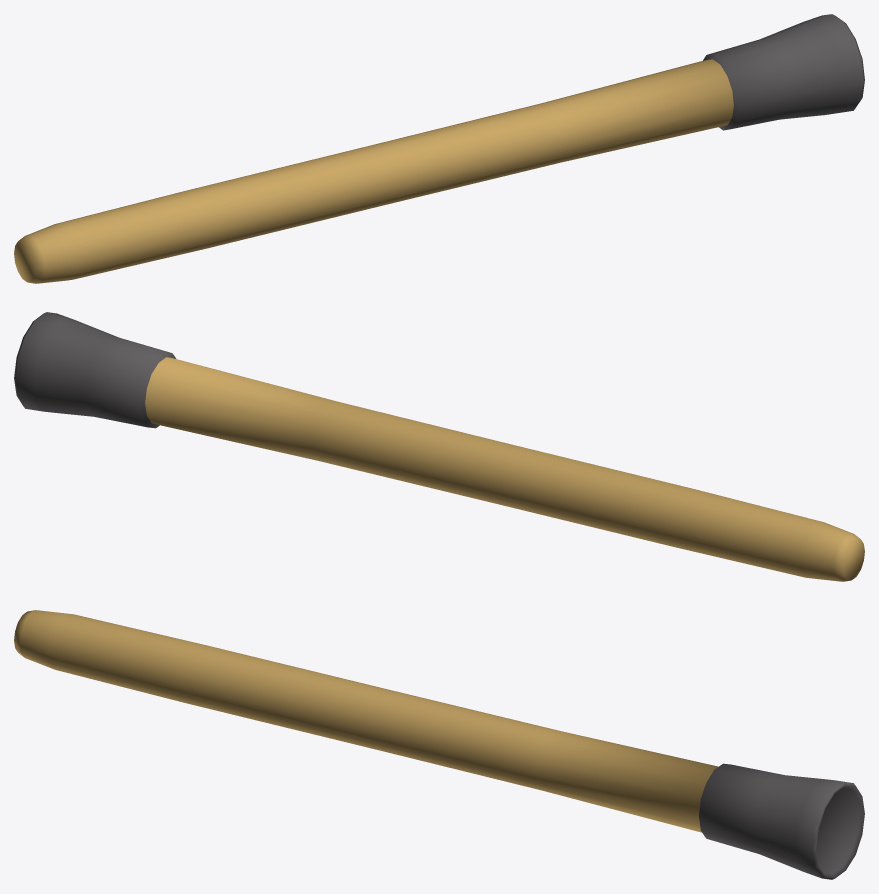
Rendered from Brush.fbx.
3 views of the same model, one above another, from view 1: azimuth 30°, elevation 25°; view 2: azimuth 150°, elevation 25°; view 3: azimuth 330°, elevation 25° (orthographic).
Parts seen in each view (by area): view 1: Brush; view 2: Brush; view 3: Brush.
Part boxes in pixels (x1,y1,x2,y2): Brush: [14, 14, 864, 283]; Brush: [14, 312, 864, 581]; Brush: [14, 610, 864, 879].
Bounding box in the file's own units: 319 × 33.61 × 34.46.
